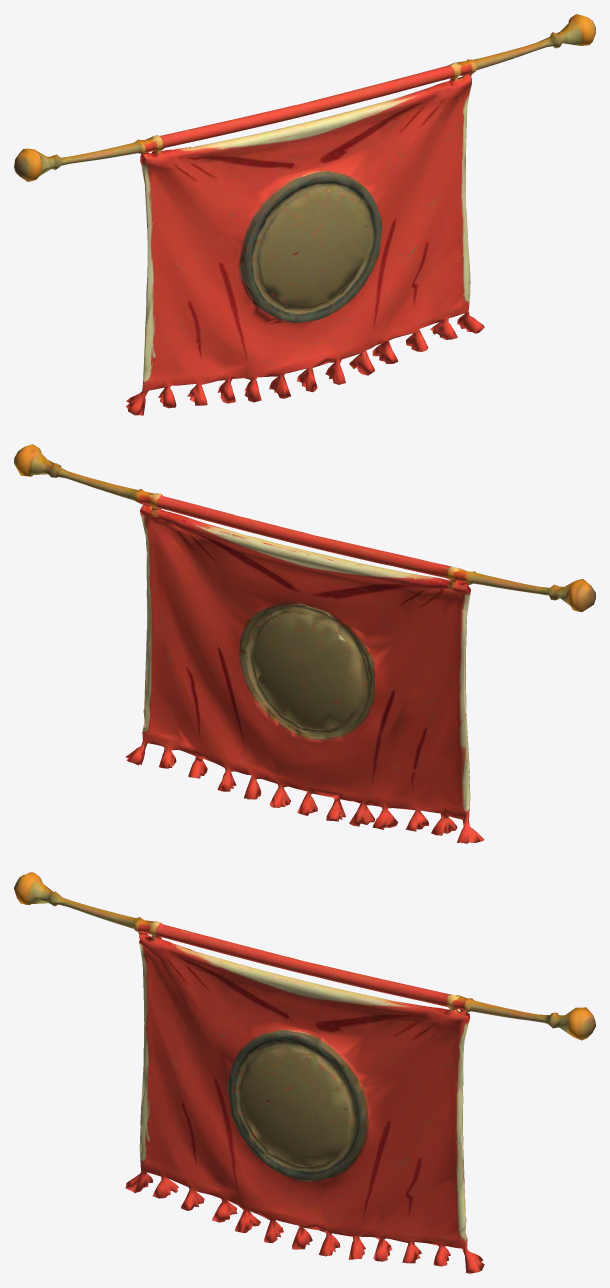
Rendered from prop-banner.glb.
The picture shows the model from 3 angles, top to bottom: view 1: azimuth 30°, elevation 25°; view 2: azimuth 150°, elevation 25°; view 3: azimuth 330°, elevation 25°; orthographic projection.
Bounding box in the file's own units: 1.91 × 0.9553 × 0.1355.
1 material, 1 textured.
